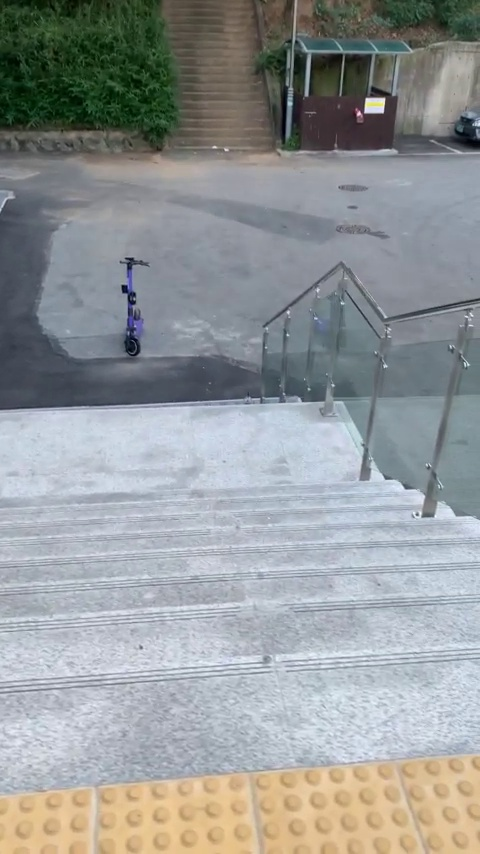beam: (110, 246, 155, 362)
